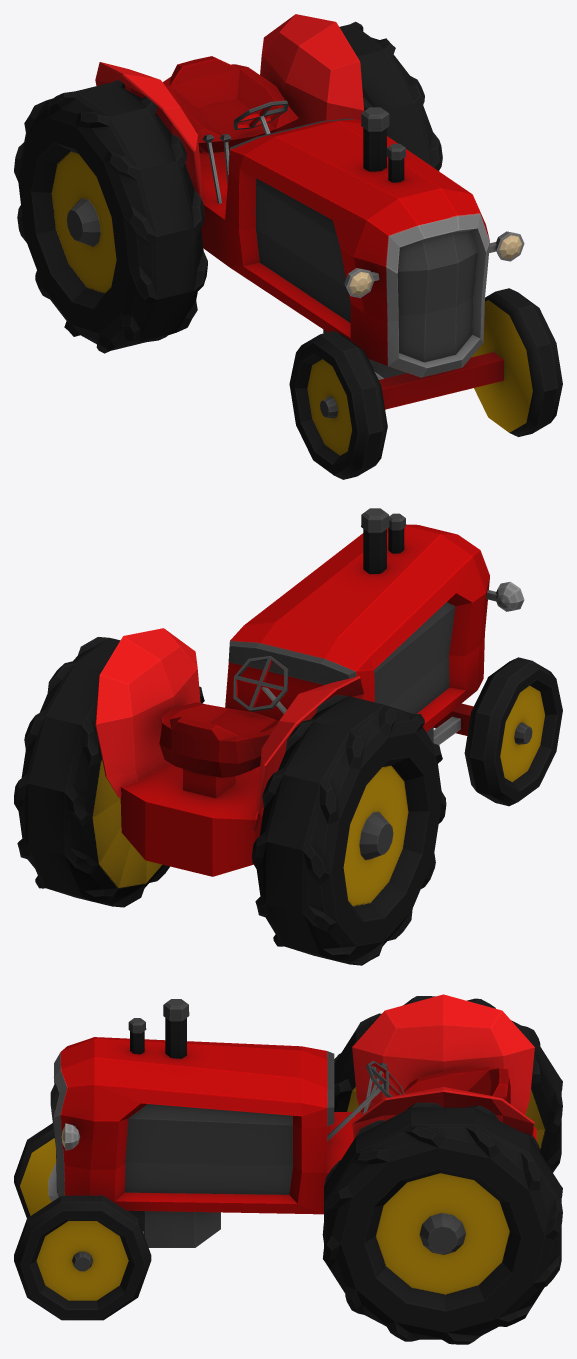
File: Tractor.glb
3 renders of one model, top to bottom at view 1: azimuth 30°, elevation 25°; view 2: azimuth 150°, elevation 25°; view 3: azimuth 270°, elevation 25°, orthographic. The views are drawn at different scales.
Visible parts, largest first — view 1: Tractor_mesh; view 2: Tractor_mesh; view 3: Tractor_mesh.
Boxes of the visible parts, left/top/right/bottom form: Tractor_mesh: left=14, top=14, right=562, bottom=479; Tractor_mesh: left=14, top=508, right=562, bottom=965; Tractor_mesh: left=14, top=994, right=562, bottom=1344.
Size of the model in its own units: 9.35 by 8.62 by 15.49.
1 material, 1 textured.
